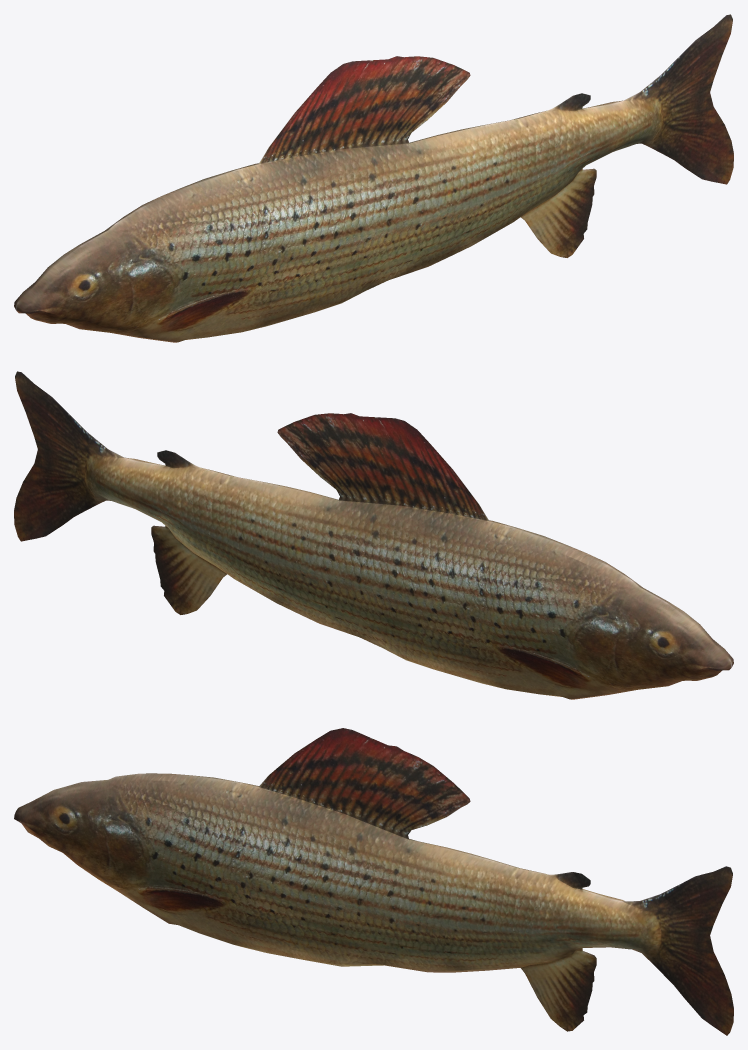
The model's file is fish.glb.
The picture shows the model from 3 angles, top to bottom: view 1: azimuth 30°, elevation 25°; view 2: azimuth 150°, elevation 25°; view 3: azimuth 330°, elevation 25°; orthographic projection.
Visible parts, largest first — view 1: fish; view 2: fish; view 3: fish.
Boxes of the visible parts, left/top/right/bottom form: fish: left=14, top=14, right=733, bottom=342; fish: left=14, top=371, right=733, bottom=699; fish: left=14, top=728, right=733, bottom=1035.
Bounding box in the file's own units: 646 × 214 × 53.16.
Materials: 1 (1 with a texture image).
